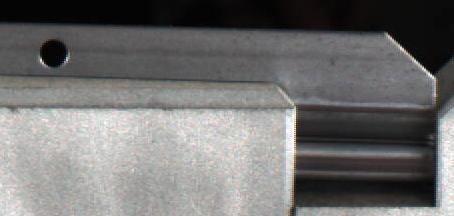cut: (306, 28, 439, 198)
holes: (37, 35, 71, 70)
